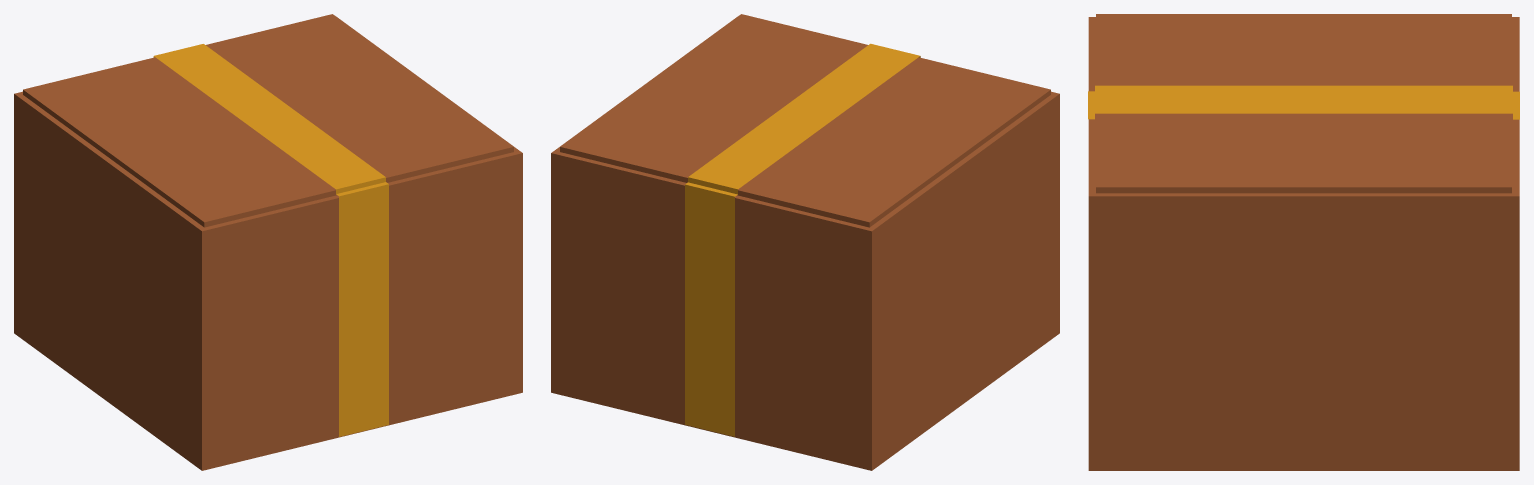
File: kutuikikare.fbx
The picture shows the model from 3 angles, left to right: view 1: azimuth 30°, elevation 25°; view 2: azimuth 150°, elevation 25°; view 3: azimuth 270°, elevation 25°; orthographic projection. The views are drawn at different scales.
Parts seen in each view (by area): view 1: Cube, Plane; view 2: Cube, Plane; view 3: Cube, Plane.
Part boxes in pixels (left/top/right/bottom): Cube: left=14, top=14, right=522, bottom=470; Plane: left=153, top=44, right=388, bottom=436; Cube: left=551, top=14, right=1059, bottom=470; Plane: left=685, top=43, right=920, bottom=436; Cube: left=1088, top=14, right=1519, bottom=470; Plane: left=1088, top=85, right=1519, bottom=119.
Size of the model in its own units: 192 by 141 by 195.
